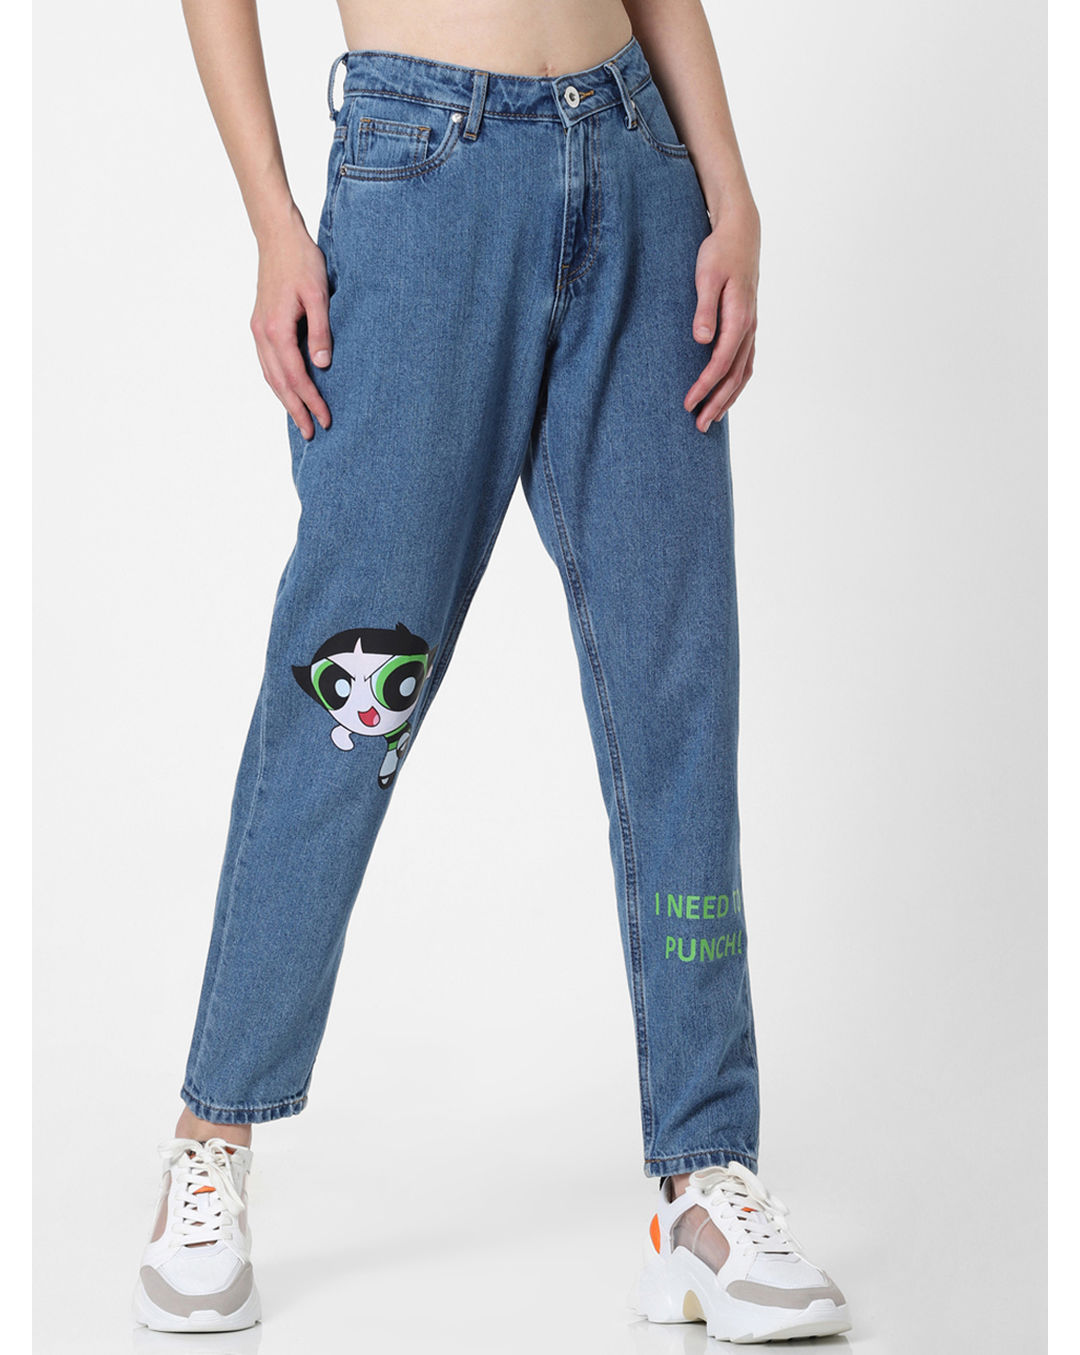jeans: (168, 31, 774, 1184)
